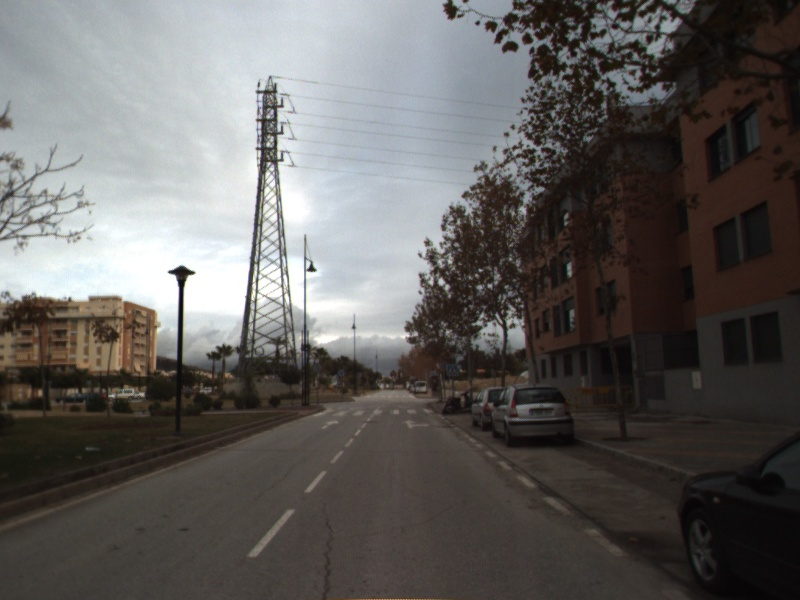STRAIGHT: (319, 418, 341, 431)
STRAIGHT_RIGHT: (400, 418, 431, 430)
